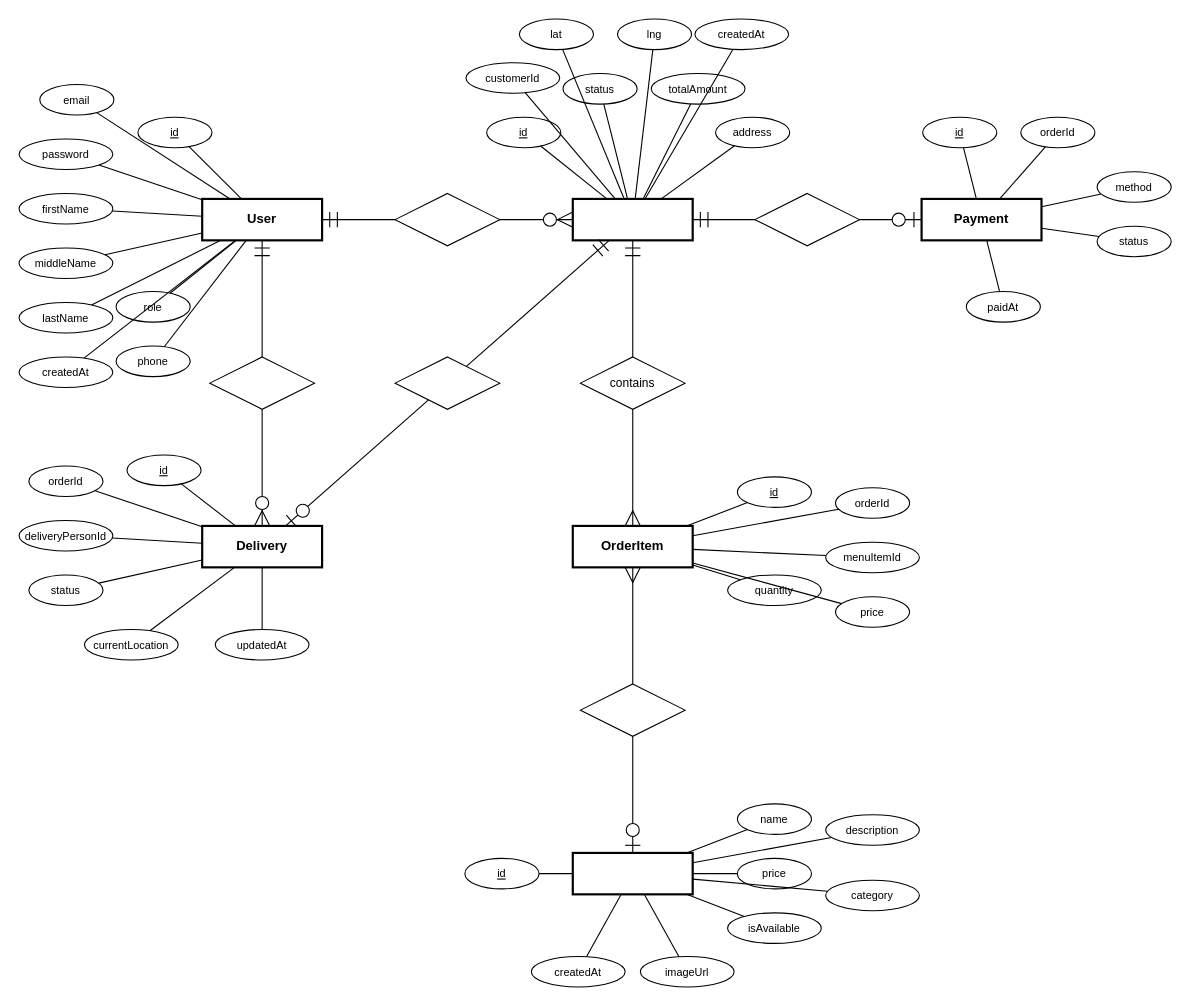
Some shapes in this 1190 by 1006 pixel diagram are drawn without their labels. The shapes that lost their labels are listed below. From the top down, each one's centre as x and y in pixels, then its label:
the point at 447,219: places
the point at 632,219: Order
the point at 806,219: paid by
the point at 261,382: delivers
the point at 447,382: fulfills
the point at 632,709: lists
the point at 632,873: MenuItem
